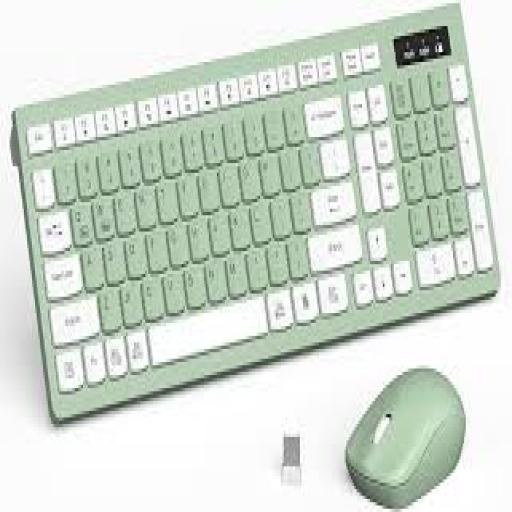KEYBOARD-2: (13, 3, 499, 421)
